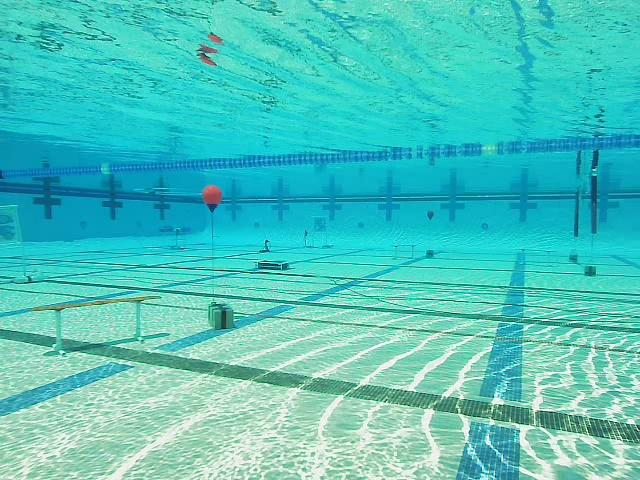buoy: (202, 185, 223, 214)
